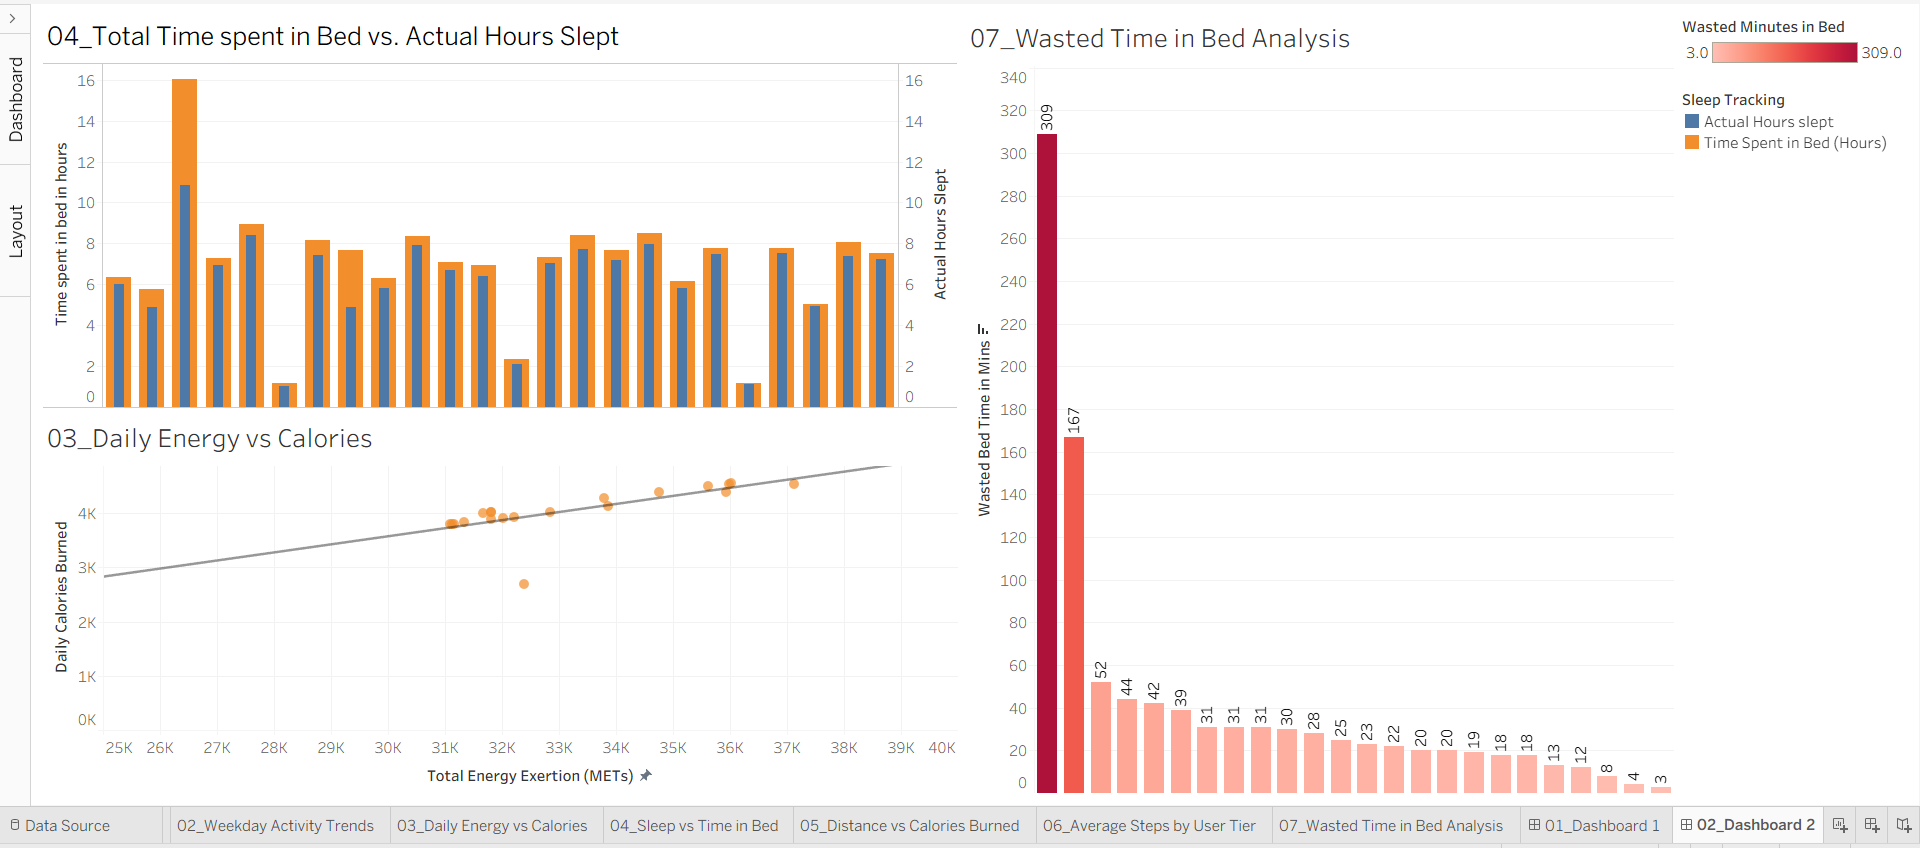

This screenshot's page, from the dashboard's own definition file:
{"tool":"tableau","page":{"name":"02_Dashboard 2","canvas":[1000,1000],"units":"permille","ordinal":1},"visuals":[{"type":"worksheet","title":"04_Sleep vs Time in Bed","mark":"Bar","rows":["avg_time_bed_hour","avg_sleep_time_hour"],"cols":["Id"],"box":[4.2,10,488.9,499.4]},{"type":"worksheet","title":"07_Wasted Time in Bed Analysis","mark":"Bar","rows":["avg_wasted_bed_time_min"],"cols":["Id"],"box":[493.1,10,379.2,980]},{"type":"legend","title":"07_Wasted Time in Bed Analysis","param":"[federated.0bknvg81aaizxj163i94p0n0t37o].[avg:avg_wasted_bed_time_min:qk]","box":[872.4,10,123.4,91.1]},{"type":"legend","title":"04_Sleep vs Time in Bed","param":"[federated.0bknvg81aaizxj163i94p0n0t37o].[:Measure Names]","box":[872.4,101.1,123.4,888.9]},{"type":"worksheet","title":"03_Daily Energy vs Calories","mark":"Circle","rows":["daily_calories_burned"],"cols":["total_mets_sum"],"box":[4.2,509.4,488.9,480.7]}]}

Visuals, with their boxes on the dashboard's canvas, which has no fixed pixel size, in thousandths of its width and height (x1, y1, x2, y2). These are canvas units, not pixel positions in the 1920x848 screenshot, which may show the page scaled, cropped or inside an application window:
"04_Sleep vs Time in Bed" worksheet (Bar marks): x1=4, y1=10, x2=493, y2=509
"07_Wasted Time in Bed Analysis" worksheet (Bar marks): x1=493, y1=10, x2=872, y2=990
"07_Wasted Time in Bed Analysis" legend: x1=872, y1=10, x2=996, y2=101
"04_Sleep vs Time in Bed" legend: x1=872, y1=101, x2=996, y2=990
"03_Daily Energy vs Calories" worksheet (Circle marks): x1=4, y1=509, x2=493, y2=990
